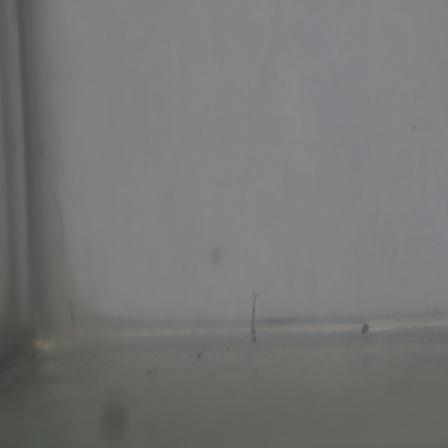Jentik-Nyamuk: (246, 286, 263, 345)
